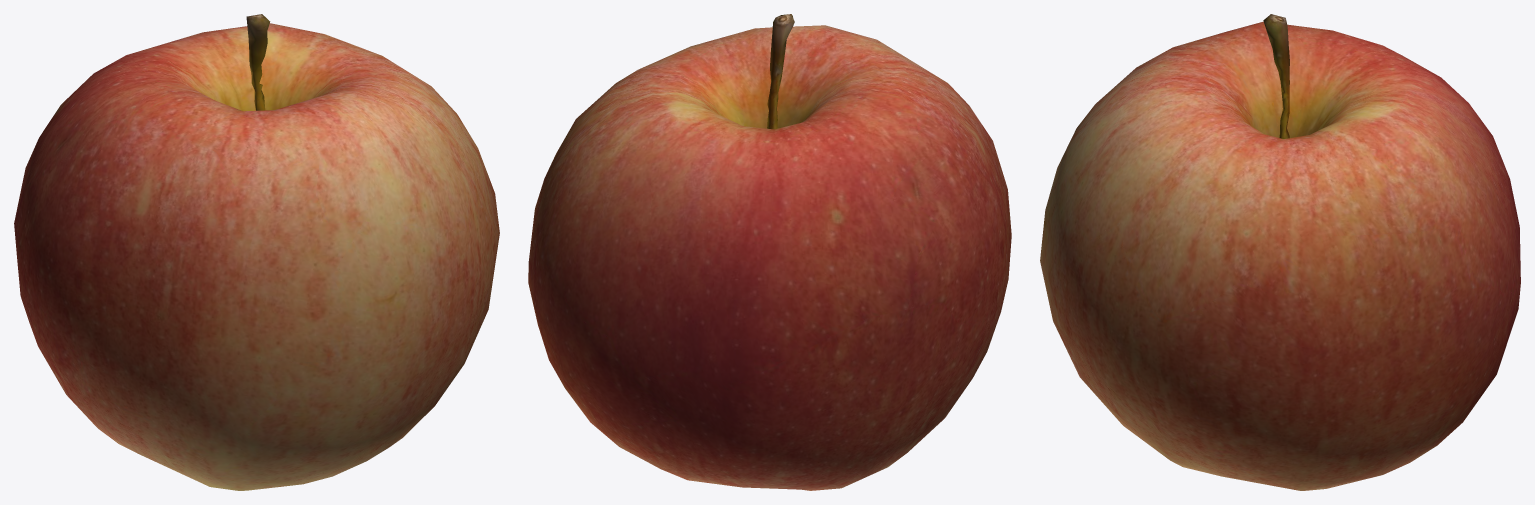
Rendered from APPLE.fbx.
3 views of the same model, side by side, from view 1: azimuth 30°, elevation 25°; view 2: azimuth 150°, elevation 25°; view 3: azimuth 270°, elevation 25° (orthographic).
Parts seen in each view (by area): view 1: apple03_lr; view 2: apple03_lr; view 3: apple03_lr.
Boxes of the visible parts, x1,y1,x2,y2 form: apple03_lr: (14,14,499,490); apple03_lr: (528,14,1011,490); apple03_lr: (1040,14,1520,490).
Bounding box in the file's own units: 39.18 × 38.76 × 39.11.
1 material, 1 textured.
